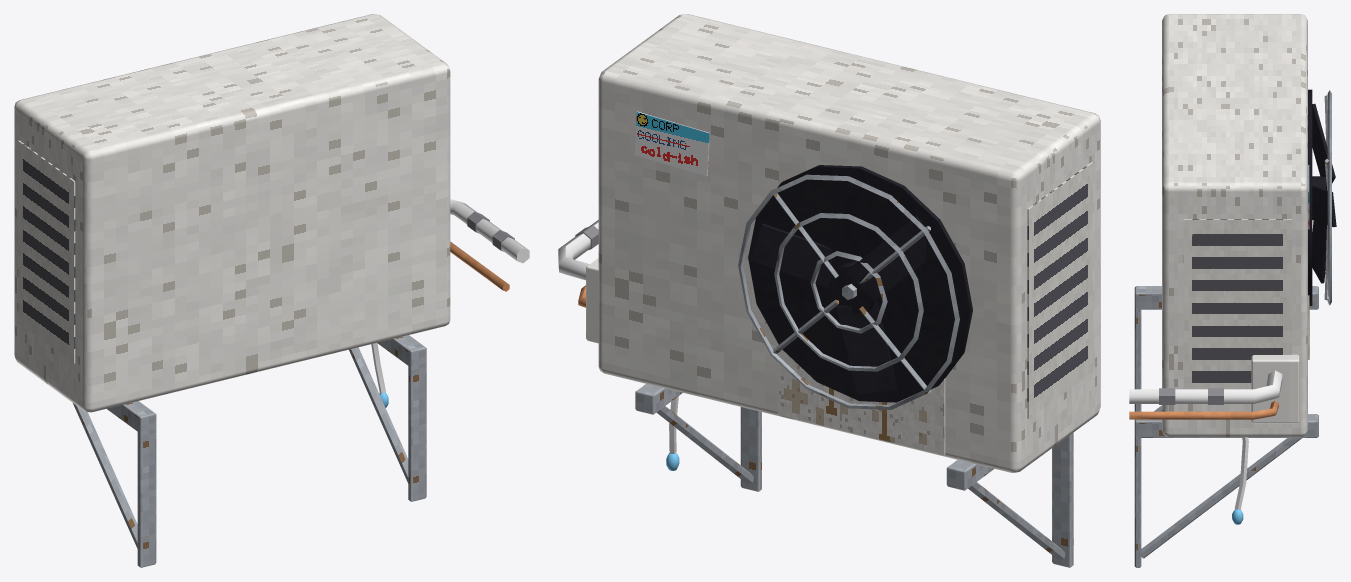
Rendered from s_acunit.glb.
3 renders of one model, left to right at view 1: azimuth 30°, elevation 25°; view 2: azimuth 150°, elevation 25°; view 3: azimuth 270°, elevation 25°, orthographic. The views are drawn at different scales.
Parts seen in each view (by area): view 1: s_acunit_mesh; view 2: s_acunit_mesh; view 3: s_acunit_mesh.
Boxes of the visible parts, box(x1,y1,x2,y2) form: s_acunit_mesh: box(14, 14, 529, 567); s_acunit_mesh: box(558, 14, 1100, 567); s_acunit_mesh: box(1129, 14, 1336, 567).
Size of the model in its own units: 0.8877 by 0.82 by 0.3827.
5 materials, 5 textured.
